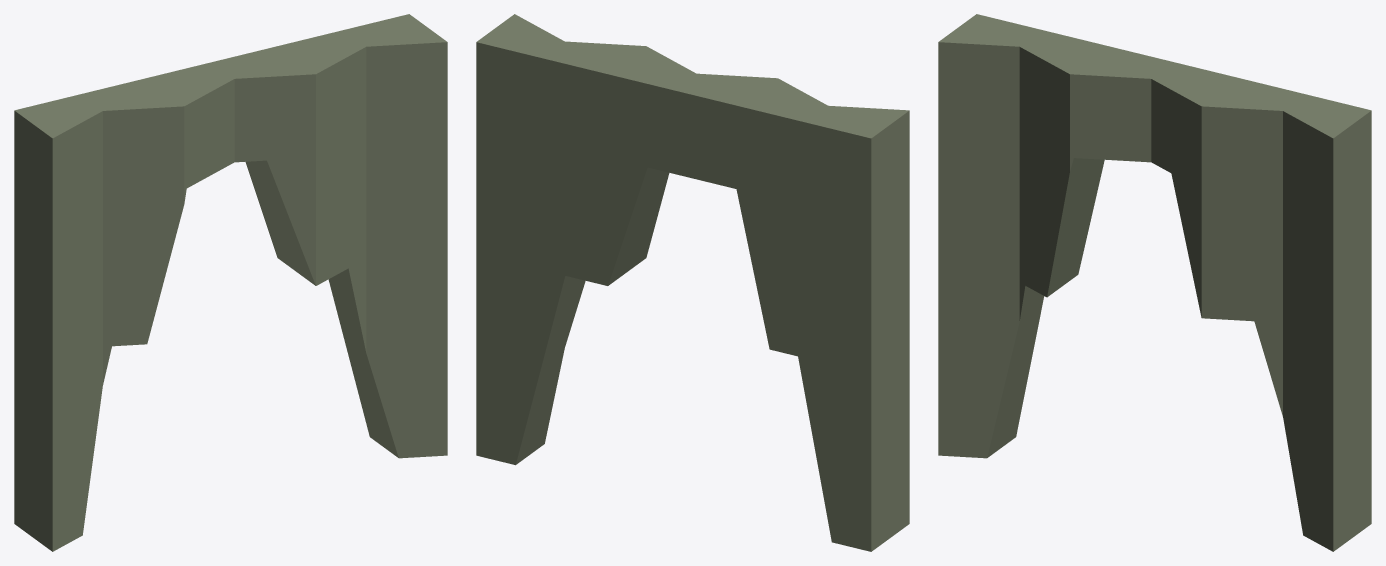
Rendered from kenney_nature-kit__cliff_cave_rock__meadow.fbx.
3 renders of one model, left to right at view 1: azimuth 30°, elevation 25°; view 2: azimuth 150°, elevation 25°; view 3: azimuth 330°, elevation 25°, orthographic.
Visible parts, largest first — view 1: kenney_nature-kit__cliff_cave_rock__meadow_stone; view 2: kenney_nature-kit__cliff_cave_rock__meadow_stone; view 3: kenney_nature-kit__cliff_cave_rock__meadow_stone.
Part boxes in pixels (<box>): kenney_nature-kit__cliff_cave_rock__meadow_stone: <box>14,14,447,551</box>; kenney_nature-kit__cliff_cave_rock__meadow_stone: <box>476,14,909,551</box>; kenney_nature-kit__cliff_cave_rock__meadow_stone: <box>938,14,1371,551</box>.
Size of the model in its own units: 3.57 by 3.57 by 0.6018.
1 material, 1 textured.
